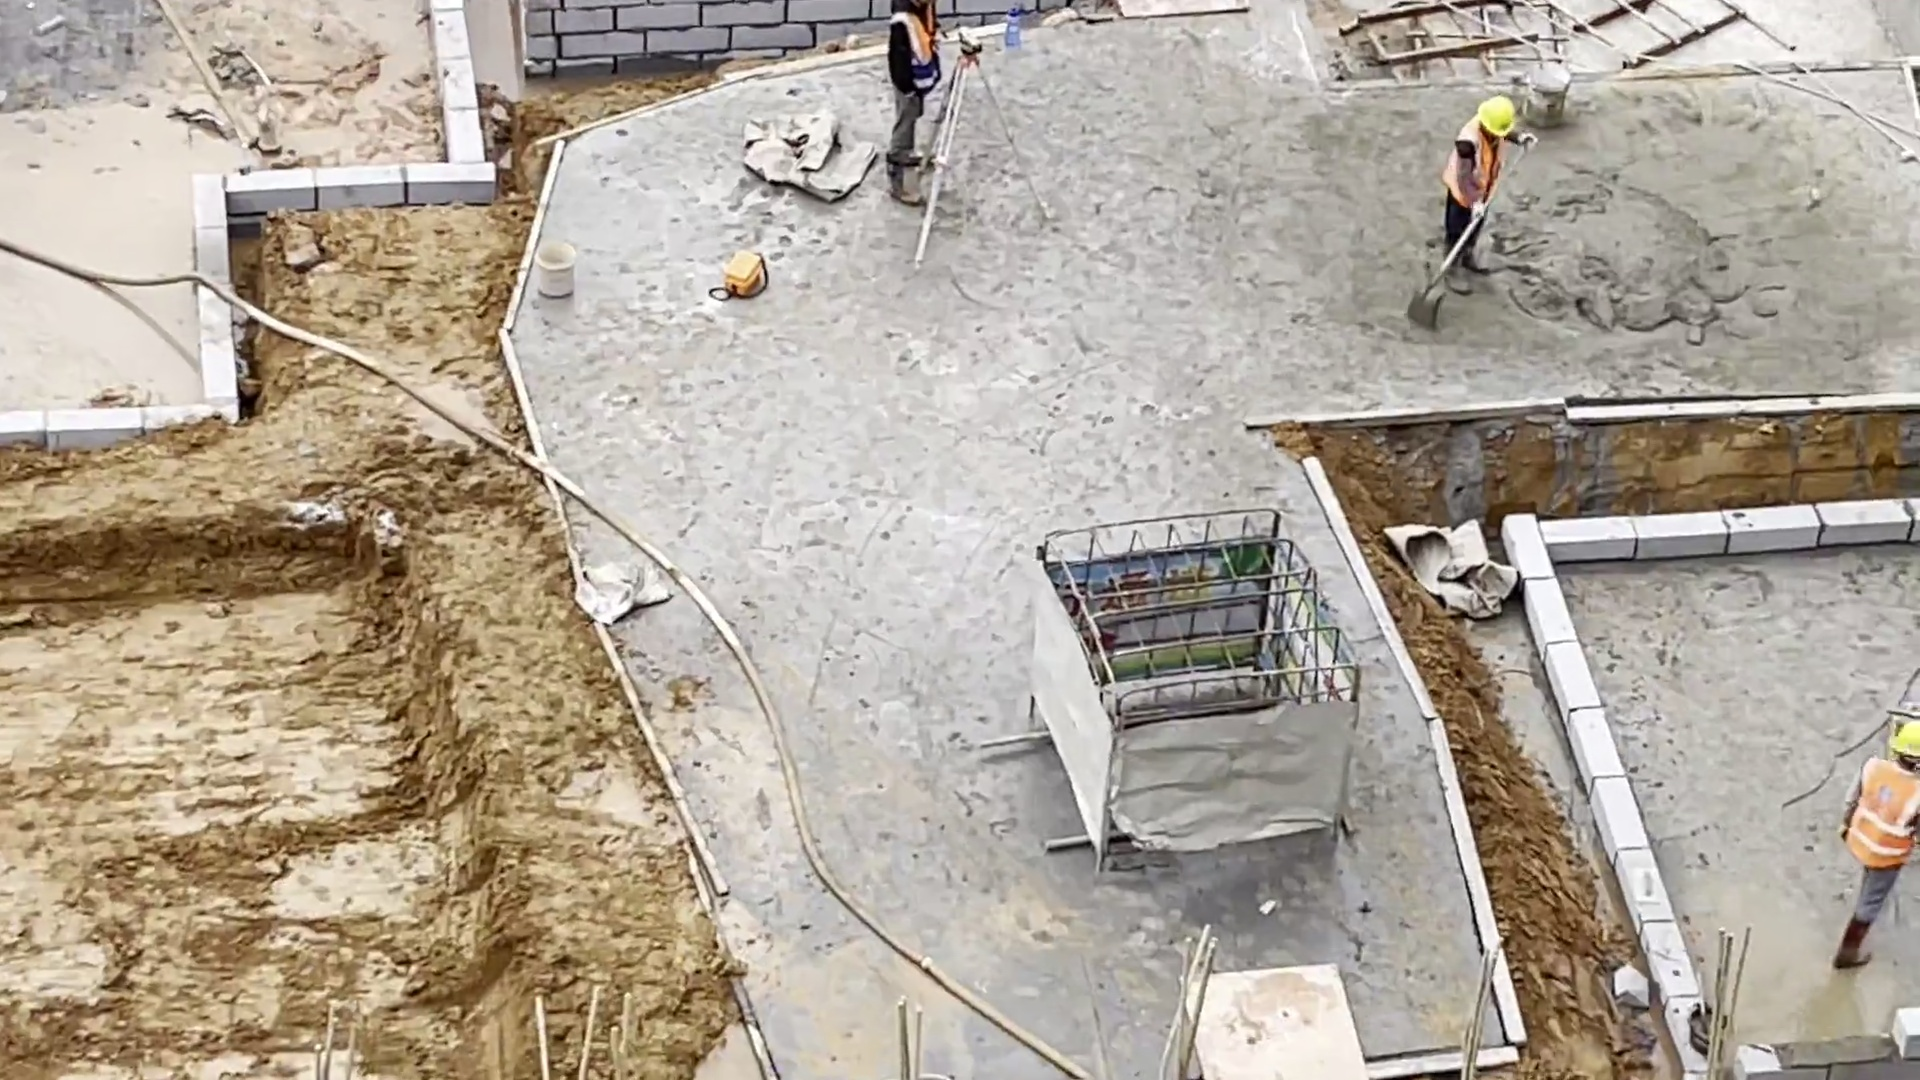helmet: (1473, 91, 1528, 141), (1888, 721, 1920, 758)
person: (1836, 709, 1920, 978), (1446, 82, 1525, 297), (878, 2, 945, 208)
vest: (1853, 760, 1919, 873), (887, 5, 945, 94), (1459, 127, 1504, 222)
